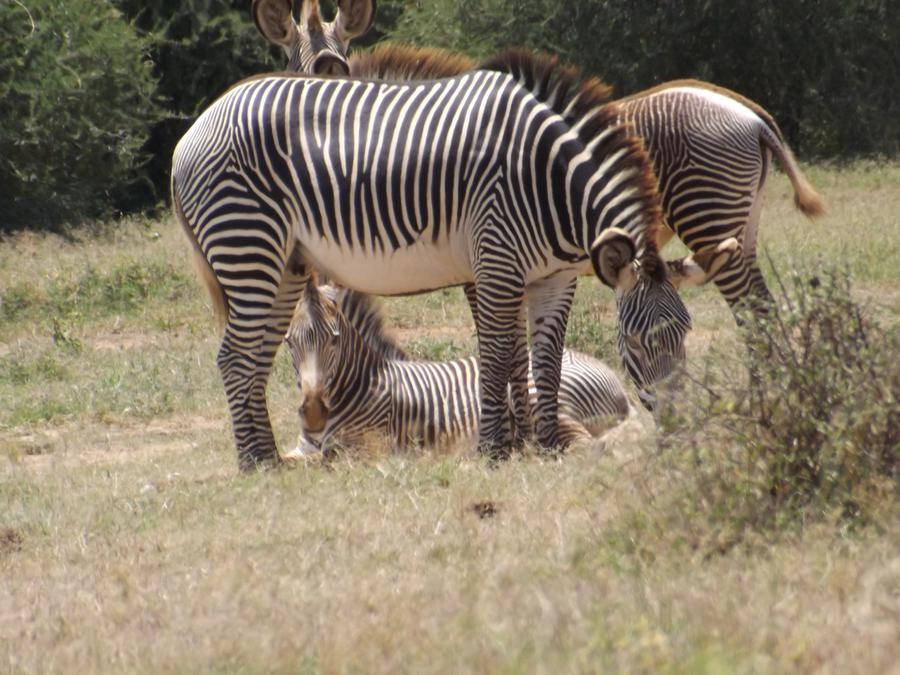zebra_grevys: (154, 50, 554, 280)
